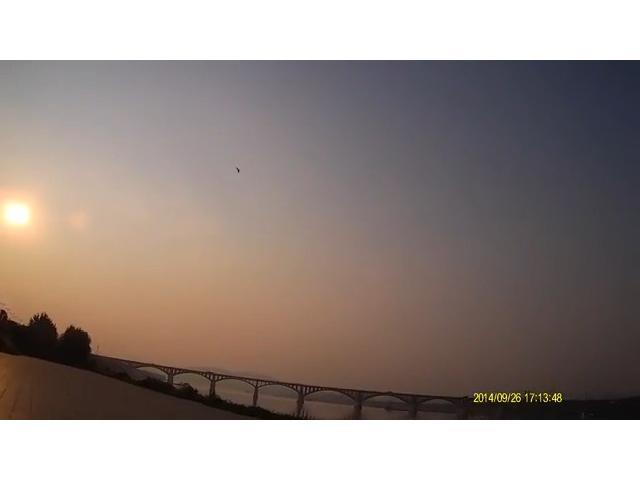Anti-Drone: (222, 160, 248, 180)
